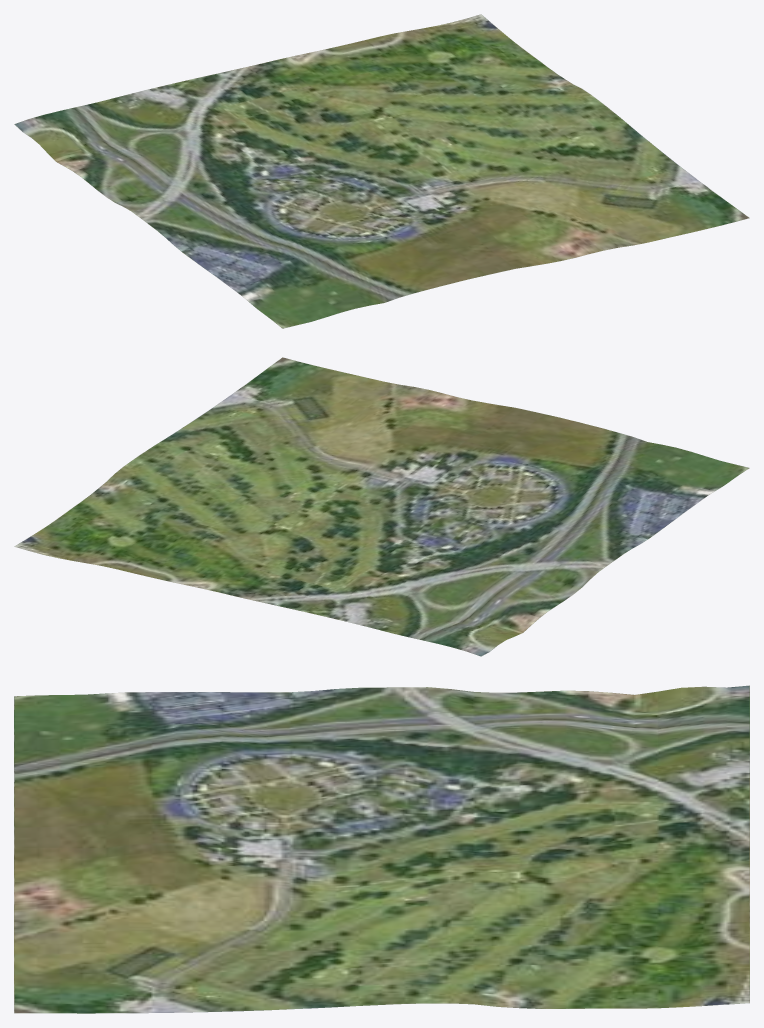
The picture shows the model from 3 angles, top to bottom: view 1: azimuth 30°, elevation 25°; view 2: azimuth 150°, elevation 25°; view 3: azimuth 270°, elevation 25°; orthographic projection. The views are drawn at different scales.
Bounding box in the file's own units: 975 × 27.83 × 971.
Materials: 1 (1 with a texture image).
